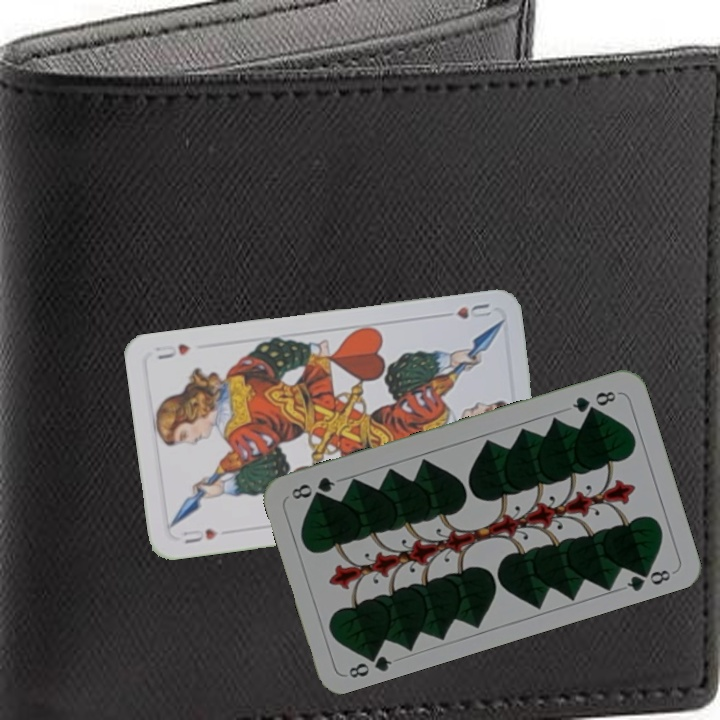G8: (344, 646, 395, 681), (568, 387, 619, 415)
HU: (175, 524, 220, 547), (452, 299, 494, 322)
